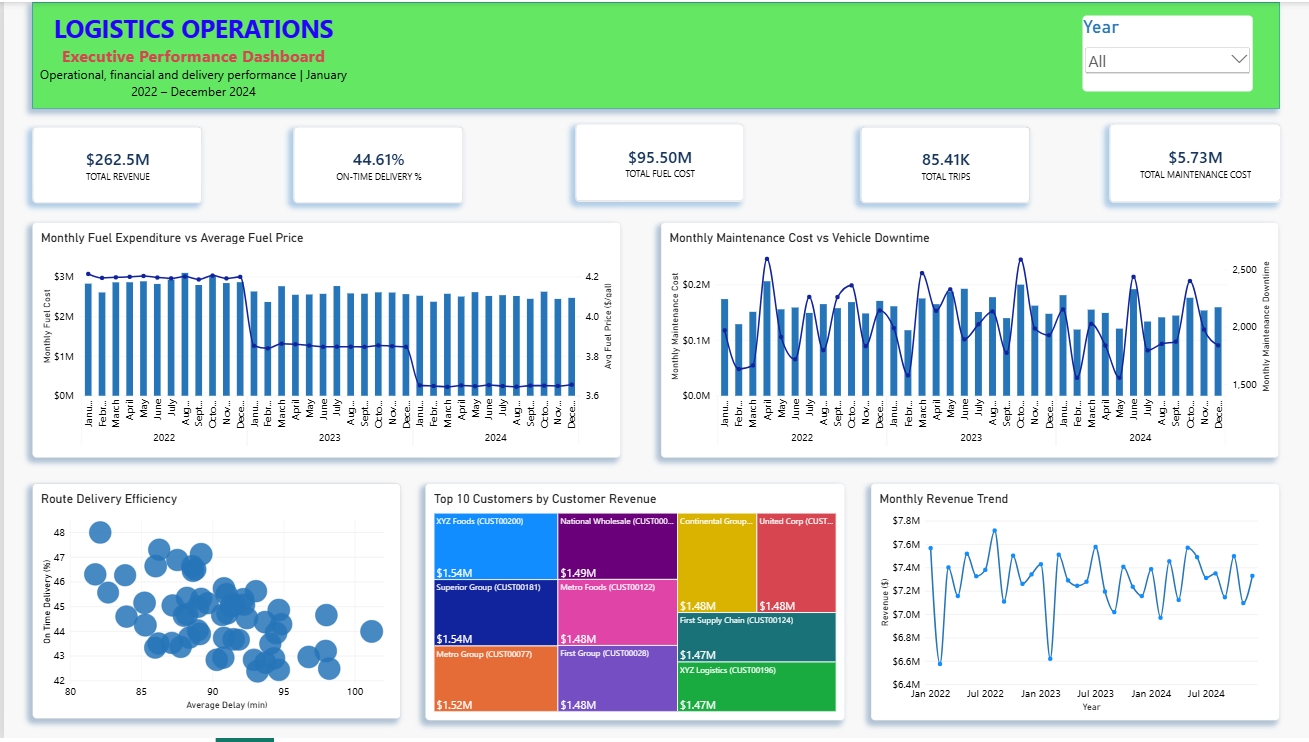

What the dashboard file says about the page in this screenshot:
{"tool":"powerbi","page":{"name":"Executive Overview","canvas":[2560,1440],"ordinal":0},"visuals":[{"type":"shape","box":[54.5,0,2440.9,209],"z":0},{"type":"textbox","box":[54.5,0,629.9,209],"z":1000},{"type":"cardVisual","fields":{"Data":["vw_Dashboard_KPI.Total Revenue"]},"box":[55.8,242.3,333.3,150],"z":2000},{"type":"cardVisual","fields":{"Data":["vw_Dashboard_KPI.on time delivery %"]},"box":[565.8,242.3,333.3,150],"z":3000},{"type":"cardVisual","fields":{"Data":["vw_Dashboard_KPI.total fuel cost"]},"box":[1119.1,238.9,330,153.3],"z":4000},{"type":"cardVisual","fields":{"Data":["vw_Dashboard_KPI.Total Trips"]},"box":[1675.8,242.3,333.3,150],"z":5000},{"type":"cardVisual","fields":{"Data":["vw_Dashboard_KPI.total maintenance cost"]},"box":[2161.7,237.9,336.2,154.4],"z":6000},{"type":"lineChart","title":"Monthly Revenue Trend","fields":{"Category":["vw_Dashboard_Monthly_Trends.month_start.Variation.Date Hierarchy.Year","vw_Dashboard_Monthly_Trends.month_start.Variation.Date Hierarchy.Quarter","vw_Dashboard_Monthly_Trends.month_start.Variation.Date Hierarchy.Month","vw_Dashboard_Monthly_Trends.month_start.Variation.Date Hierarchy.Day"],"Y":["vw_Dashboard_Monthly_Trends.monthly revenue"]},"box":[1695.9,941.8,799.5,463.3],"z":7000},{"type":"scatterChart","title":"Route Delivery Efficiency","fields":{"Size":["Sum(vw_Dashboard_Delivery_Routes.delivery_events)"],"X":["vw_Dashboard_Delivery_Routes.average_delay_minutes"],"Y":["vw_Dashboard_Delivery_Routes.on_time_percentage"]},"box":[54.5,941.8,720.8,460.3],"z":8000},{"type":"treemap","title":"Top 10 Customers by Customer Revenue","fields":{"Group":["vw_Dashboard_Customer_Performance.customer_names"],"Values":["vw_Dashboard_Customer_Performance.customer revenue"]},"box":[823.7,941.8,820.7,463.3],"z":9000},{"type":"lineClusteredColumnComboChart","title":"Monthly Fuel Expenditure vs Average Fuel Price","fields":{"Category":["vw_Dashboard_Monthly_Trends.month_start.Variation.Date Hierarchy.Year","vw_Dashboard_Monthly_Trends.month_start.Variation.Date Hierarchy.Month"],"Y":["vw_Dashboard_Monthly_Trends.monthly fuel cost"],"Y2":["vw_Dashboard_Monthly_Trends.average fuel price per gallon"]},"box":[54.5,432.6,1150.8,460.3],"z":10000},{"type":"lineClusteredColumnComboChart","title":"Monthly Maintenance Cost vs Vehicle Downtime","fields":{"Category":["vw_Dashboard_Monthly_Trends.month_start.Variation.Date Hierarchy.Year","vw_Dashboard_Monthly_Trends.month_start.Variation.Date Hierarchy.Month"],"Y":["vw_Dashboard_Monthly_Trends.montly manitenance cost"],"Y2":["vw_Dashboard_Monthly_Trends.monthly maintenance downtime"]},"box":[1284,432.6,1208.3,460.3],"z":11000},{"type":"slicer","title":"Year","fields":{"Values":["vw_Dashboard_Monthly_Trends.activity_year"]},"box":[2110.8,27.3,333.1,148.4],"z":12000}]}

Visuals, with their boxes in screenshot pixels (x1, y1, x2, y2), scaled from the page's 2560x1440 canvas onto the 1309x742 screenshot:
shape: 28:0:1276:108
textbox: 28:0:350:108
cardVisual - vw_Dashboard_KPI.Total Revenue: 29:125:199:202
cardVisual - vw_Dashboard_KPI.on time delivery %: 289:125:460:202
cardVisual - vw_Dashboard_KPI.total fuel cost: 572:123:741:202
cardVisual - vw_Dashboard_KPI.Total Trips: 857:125:1027:202
cardVisual - vw_Dashboard_KPI.total maintenance cost: 1105:123:1277:202
"Monthly Revenue Trend" lineChart: 867:485:1276:724
"Route Delivery Efficiency" scatterChart: 28:485:396:722
"Top 10 Customers by Customer Revenue" treemap: 421:485:841:724
"Monthly Fuel Expenditure vs Average Fuel Price" lineClusteredColumnComboChart: 28:223:616:460
"Monthly Maintenance Cost vs Vehicle Downtime" lineClusteredColumnComboChart: 657:223:1274:460
"Year" slicer: 1079:14:1250:91
